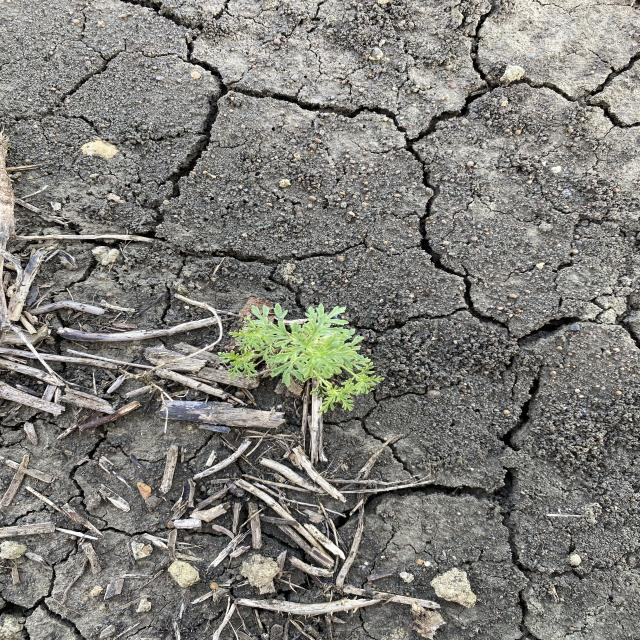Ragweed: (217, 302, 386, 414)
